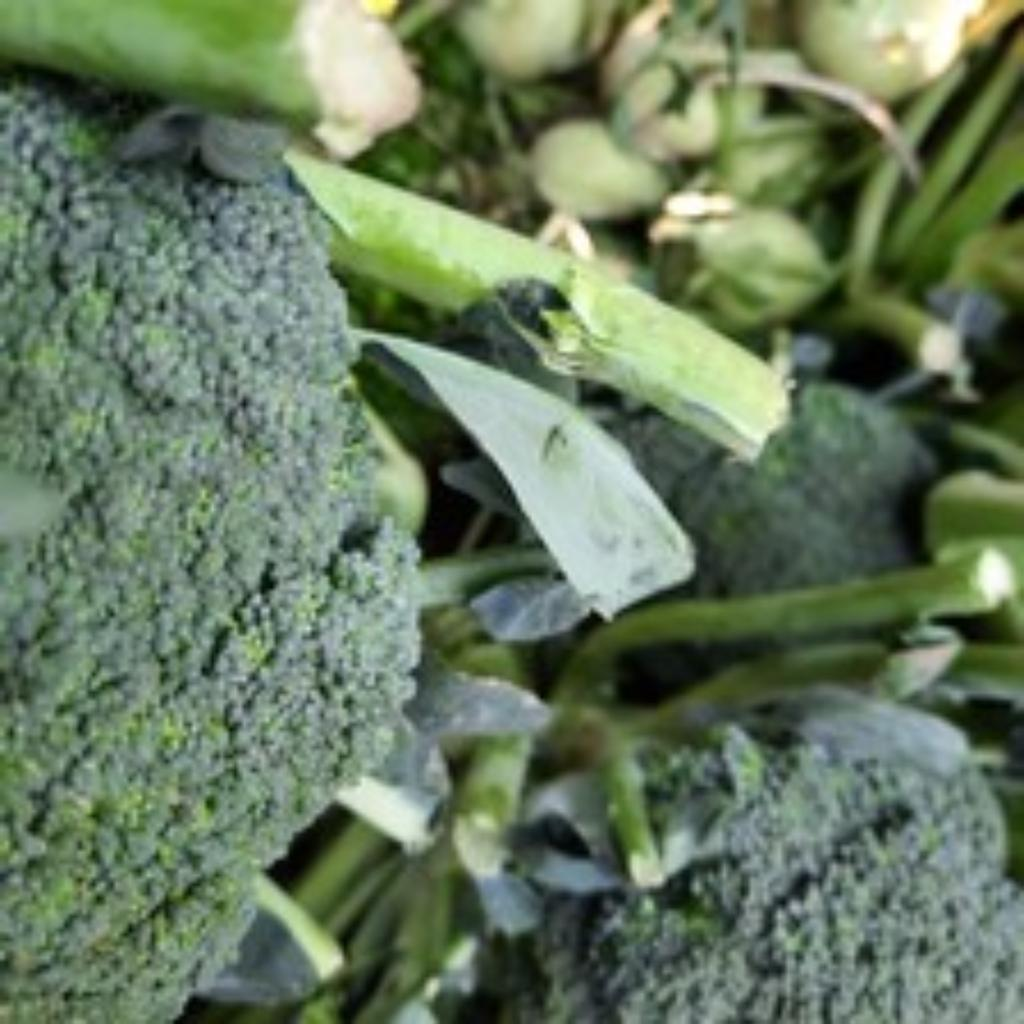Broccoli: (0, 78, 418, 1023), (0, 78, 416, 1023), (544, 768, 1024, 1024), (548, 766, 1024, 1024)
